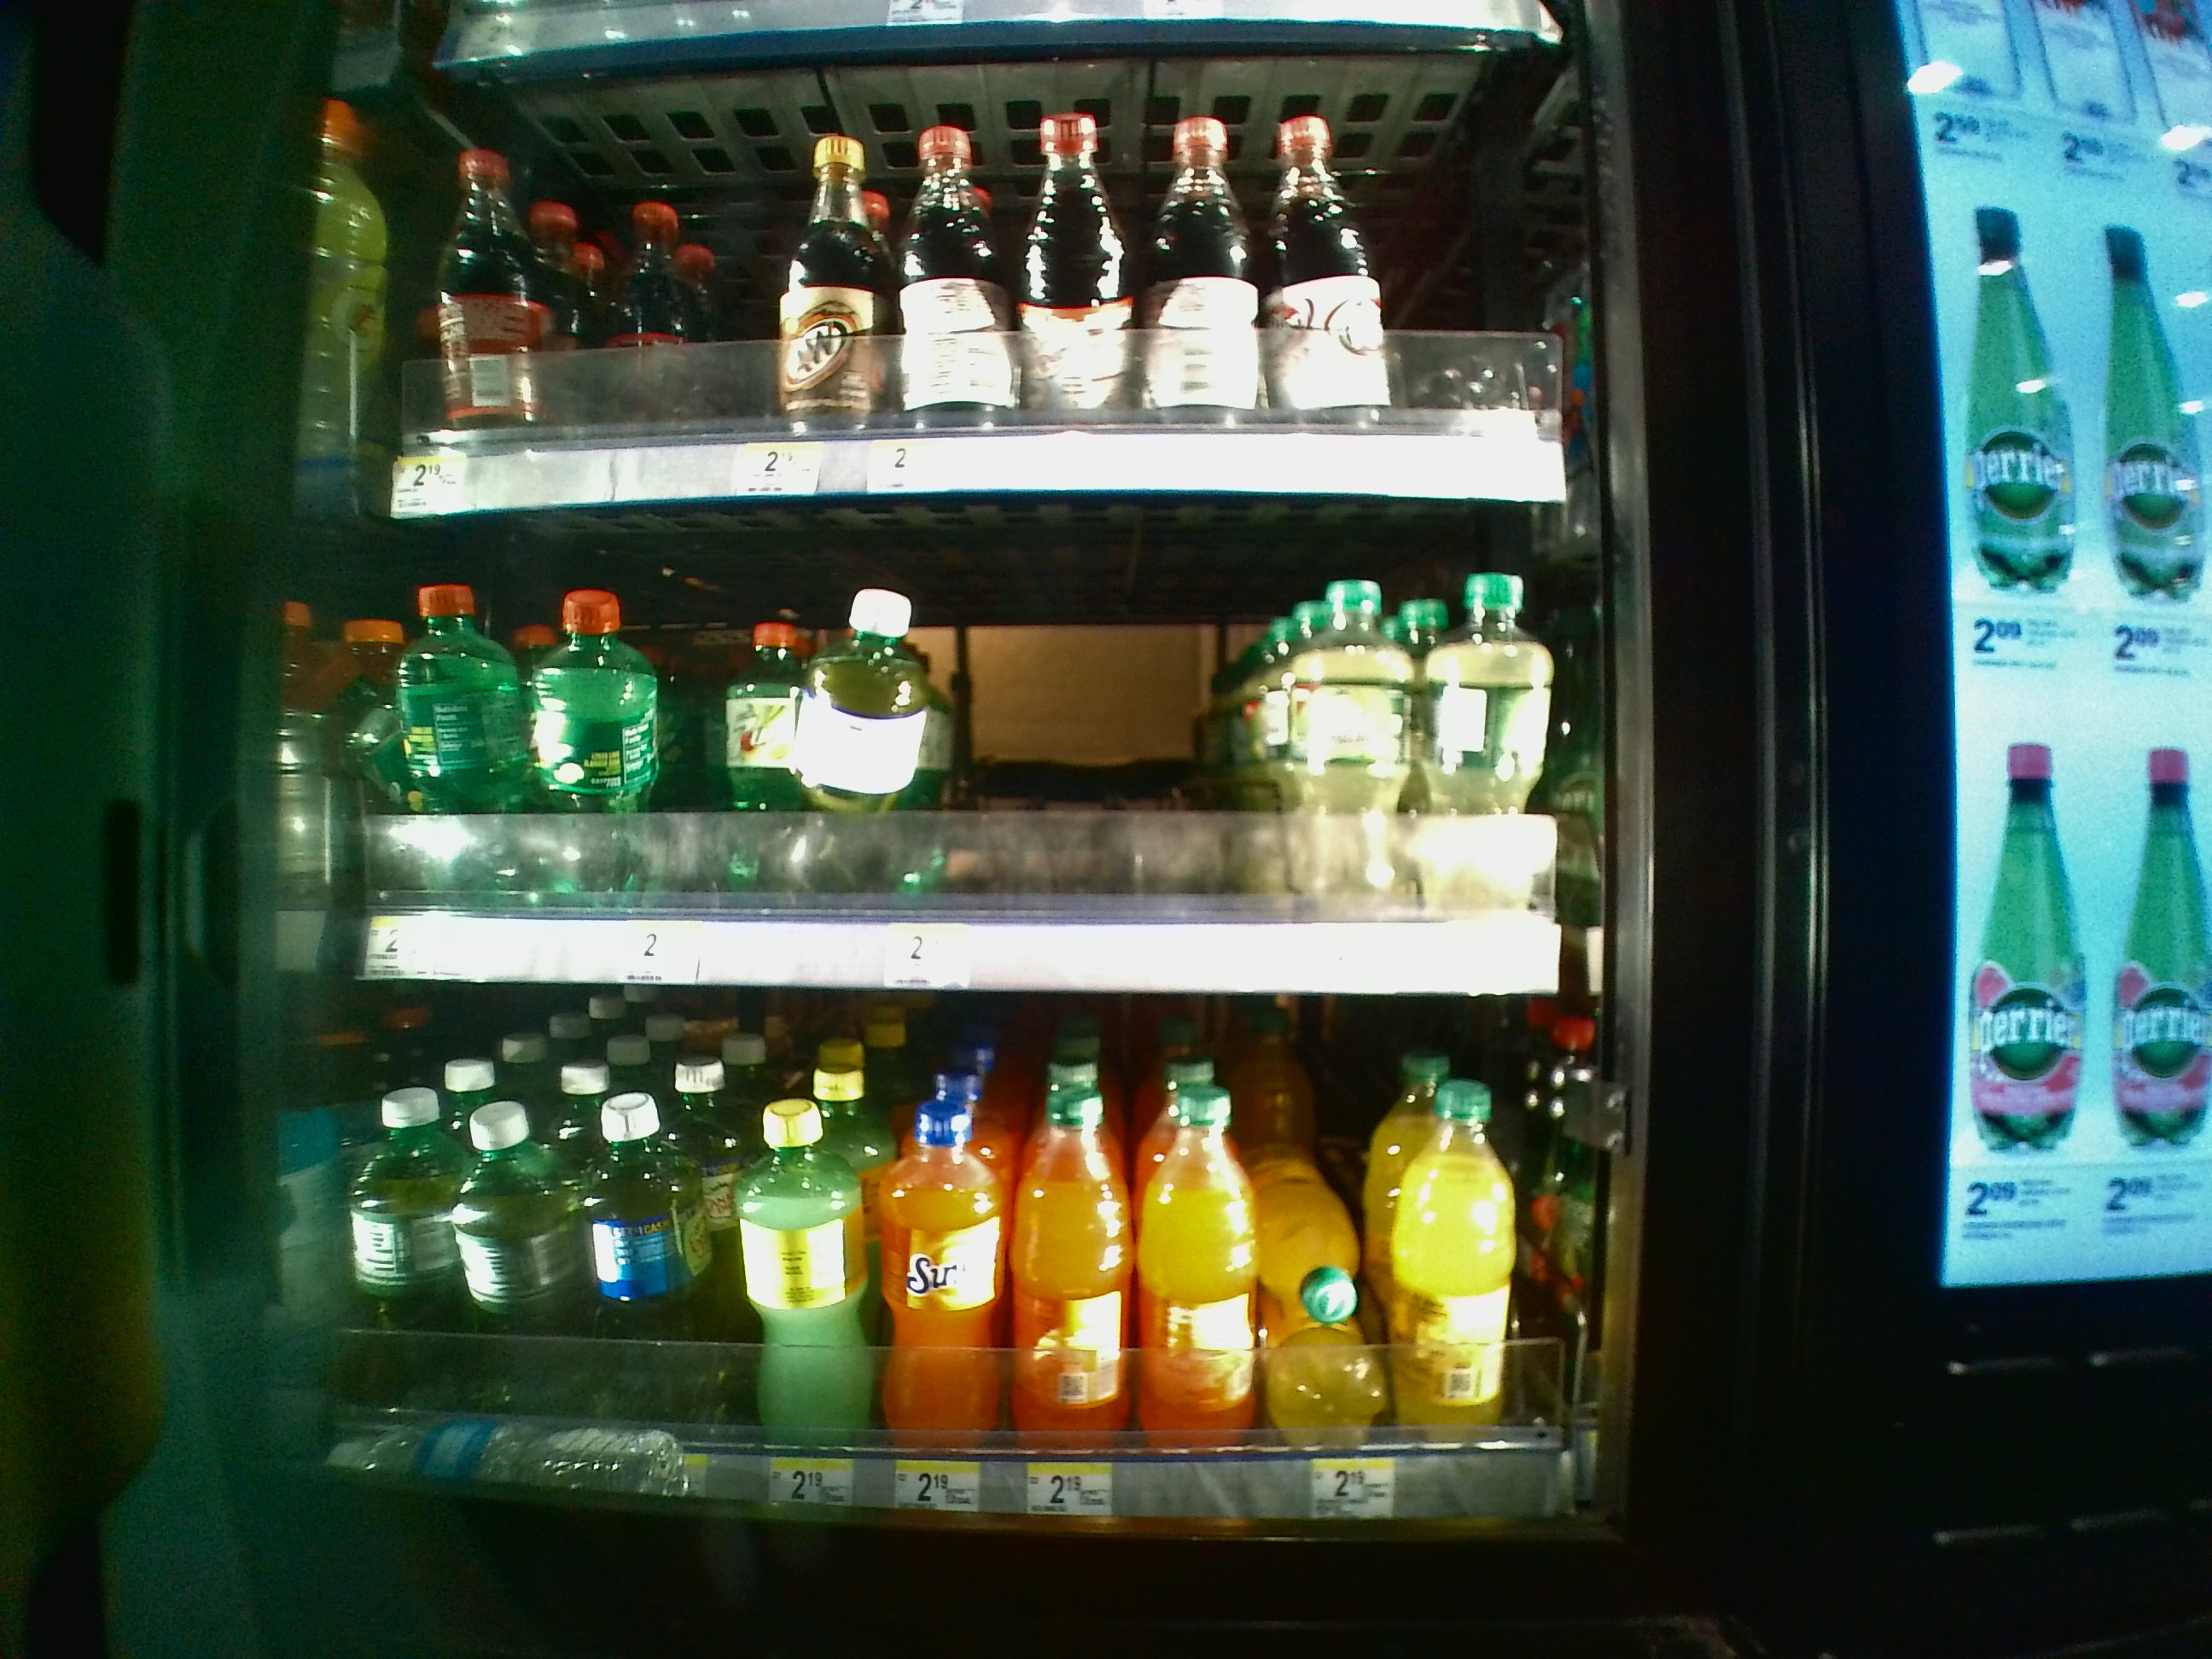shelf: (341, 1009, 1611, 1600), (340, 516, 1599, 997)
